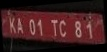character: (73, 20, 82, 39), (85, 21, 94, 40), (58, 19, 67, 37), (50, 18, 58, 37), (8, 16, 16, 33), (16, 17, 24, 34), (28, 18, 36, 35), (36, 19, 43, 36)
